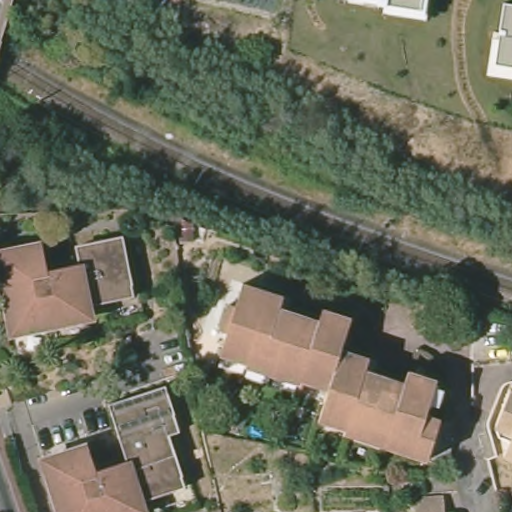pool: (245, 407, 309, 448)
